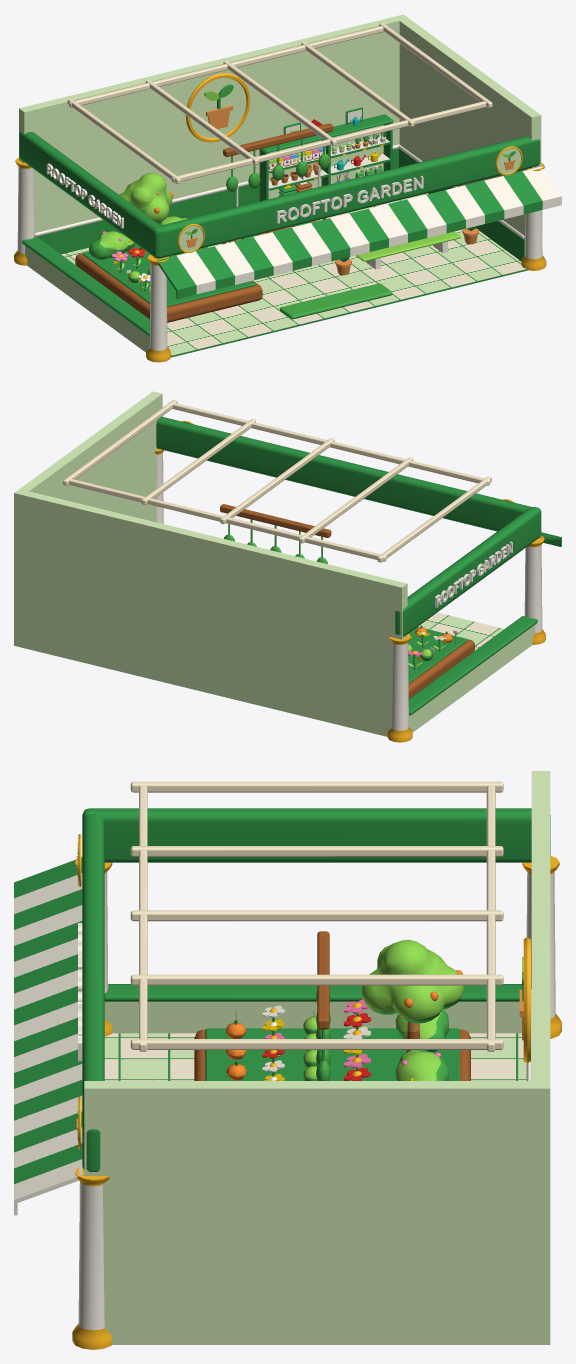
The model's file is rooftop_garden.glb.
The picture shows the model from 3 angles, top to bottom: view 1: azimuth 30°, elevation 25°; view 2: azimuth 150°, elevation 25°; view 3: azimuth 270°, elevation 25°; orthographic projection. The views are drawn at different scales.
Visible parts, largest first — view 1: Shop_Garden_Back_Wall, Shop_Garden_Front_Canopy, Shop_Garden_Shell, Shop_Garden_Side_Wall, M_Garden_Retail, M_Garden_Bed, RoofGarden_Raised_Bed, RoofGarden_Skylight_Edge_11.2, RoofGarden_Skylight_Edge_16.8, RoofGarden_Raised_Soil, Refined_RoofGarden_Entry_Mat, RoofGarden_Bench (+6 smaller); view 2: Shop_Garden_Back_Wall, Shop_Garden_Front_Canopy, Shop_Garden_Shell, Shop_Garden_Side_Wall, RoofGarden_Skylight_Edge_16.8, RoofGarden_Skylight_Edge_11.2, RoofGarden_Raised_Soil, RoofGarden_Raised_Bed, RoofGarden_Skylight_Rib_15.1, RoofGarden_Skylight_Rib_17.55, RoofGarden_Skylight_Rib_20.0, RoofGarden_Skylight_Rib_22.45 (+3 smaller); view 3: Shop_Garden_Side_Wall, Shop_Garden_Front_Canopy, Shop_Garden_Shell, Shop_Garden_Back_Wall, M_Garden_Bed, RoofGarden_Raised_Soil, RoofGarden_Skylight_Rib_15.1, RoofGarden_Skylight_Rib_22.45, RoofGarden_Skylight_Rib_20.0, RoofGarden_Skylight_Rib_24.9, RoofGarden_Skylight_Rib_17.55, RoofGarden_Skylight_Edge_16.8 (+3 smaller).
Boxes of the visible parts, x1,y1,x2,y2 form: Shop_Garden_Back_Wall: (19,14,408,254); Shop_Garden_Front_Canopy: (19,131,561,298); Shop_Garden_Shell: (14,157,546,362); Shop_Garden_Side_Wall: (398,18,541,260); M_Garden_Retail: (259,107,393,201); M_Garden_Bed: (89,172,478,292); RoofGarden_Raised_Bed: (75,247,262,322); RoofGarden_Skylight_Edge_11.2: (172,100,489,183); RoofGarden_Skylight_Edge_16.8: (69,25,387,107); RoofGarden_Raised_Soil: (82,243,255,306); Refined_RoofGarden_Entry_Mat: (279,283,392,319); RoofGarden_Bench: (356,231,461,269); Shop_Garden_Back_Wall: (14,489,407,736); Shop_Garden_Front_Canopy: (156,416,561,636); Shop_Garden_Shell: (155,449,545,742); Shop_Garden_Side_Wall: (20,391,162,522); RoofGarden_Skylight_Edge_16.8: (65,478,386,561); RoofGarden_Skylight_Edge_11.2: (169,402,490,485); RoofGarden_Raised_Soil: (408,627,467,683); RoofGarden_Raised_Bed: (408,639,474,698); RoofGarden_Skylight_Rib_15.1: (377,476,491,562); RoofGarden_Skylight_Rib_17.55: (299,457,413,543); RoofGarden_Skylight_Rib_20.0: (220,438,334,524); RoofGarden_Skylight_Rib_22.45: (141,419,255,504); Shop_Garden_Side_Wall: (84,1081,531,1344); Shop_Garden_Front_Canopy: (14,808,550,1215); Shop_Garden_Shell: (72,856,561,1349); Shop_Garden_Back_Wall: (519,771,550,1344); M_Garden_Bed: (226,939,463,1080); RoofGarden_Raised_Soil: (205,1028,459,1080); RoofGarden_Skylight_Rib_15.1: (130,781,503,792); RoofGarden_Skylight_Rib_22.45: (130,974,503,985); RoofGarden_Skylight_Rib_20.0: (130,910,503,921); RoofGarden_Skylight_Rib_24.9: (130,1039,503,1049); RoofGarden_Skylight_Rib_17.55: (130,846,503,856); RoofGarden_Skylight_Edge_16.8: (486,785,495,1051).
Bounding box in the file's own units: 12.48 × 4.9 × 8.82.
25 materials, 1 textured.
